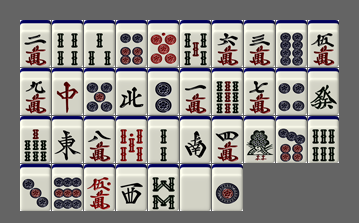0m: (84, 164, 115, 211)
0p: (148, 20, 179, 67)
0s: (116, 116, 147, 163)
1m: (180, 68, 211, 115)
1p: (212, 164, 243, 211)
1s: (244, 116, 275, 163)
1z: (52, 116, 83, 163)
2m: (20, 20, 51, 67)
2p: (148, 68, 179, 115)
2s: (148, 116, 179, 163)
2z: (180, 116, 211, 163)
3m: (244, 20, 275, 67)
3p: (20, 164, 51, 211)
3s: (84, 20, 115, 67)
3z: (116, 164, 147, 211)
4m: (212, 116, 243, 163)
4p: (276, 68, 307, 115)
4s: (52, 20, 83, 67)
4z: (116, 68, 147, 115)
5m: (308, 20, 339, 67)
5p: (84, 68, 115, 115)
5s: (180, 20, 211, 67)
5z: (180, 164, 211, 211)
6m: (212, 20, 243, 67)
6p: (116, 20, 147, 67)
6s: (308, 116, 339, 163)
6z: (308, 68, 339, 115)
7m: (244, 68, 275, 115)
7p: (276, 116, 307, 163)
7s: (20, 116, 51, 163)
7z: (52, 68, 83, 115)
8m: (84, 116, 115, 163)
8p: (276, 20, 307, 67)
8s: (148, 164, 179, 211)
9m: (20, 68, 51, 115)
9p: (52, 164, 83, 211)
9s: (212, 68, 243, 115)
